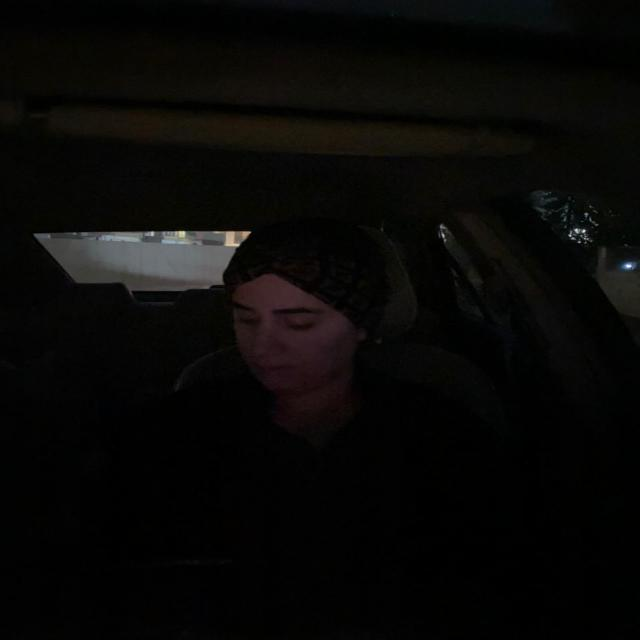drowsy: (212, 219, 398, 401)
